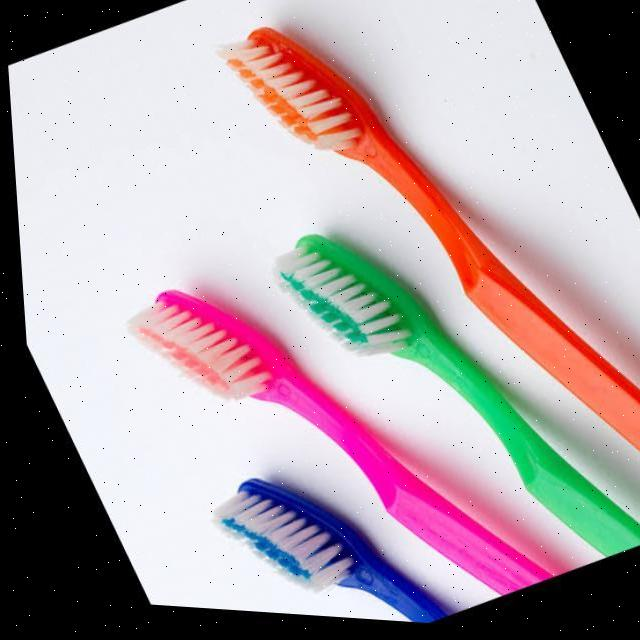toothbrush: (224, 30, 640, 462), (128, 296, 552, 600), (266, 241, 640, 559), (210, 482, 444, 626)
